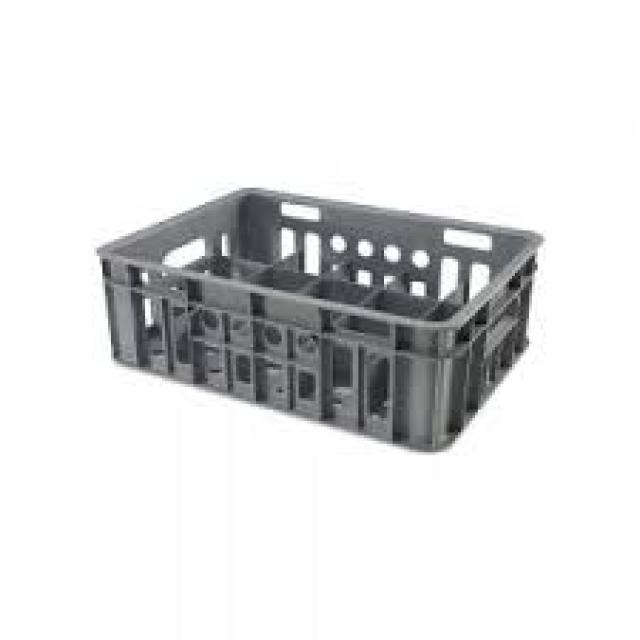basket: (77, 166, 547, 462)
